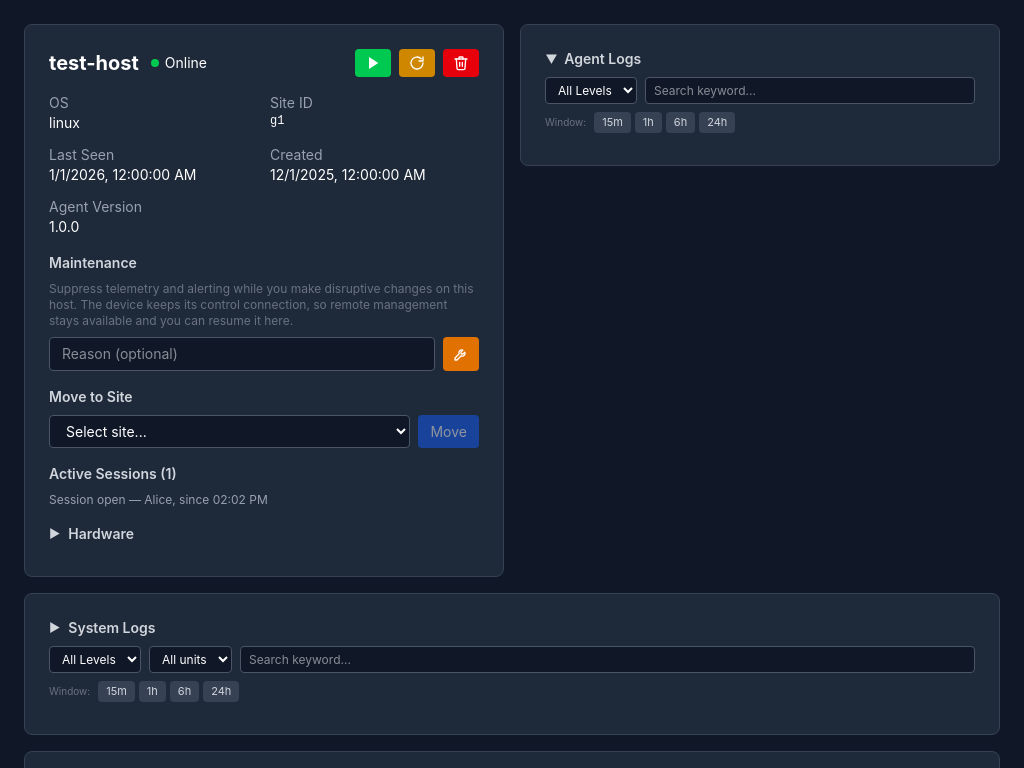
Test: DeviceDetail — sites and customers › handleMoveGroup clears the dropdown selection after a successful move
This screenshot has width=1024, height=768.
Select "Site 2" in the dropdown showing "Select site..." at (230, 432), box left=49, top=415, right=410, bottom=448
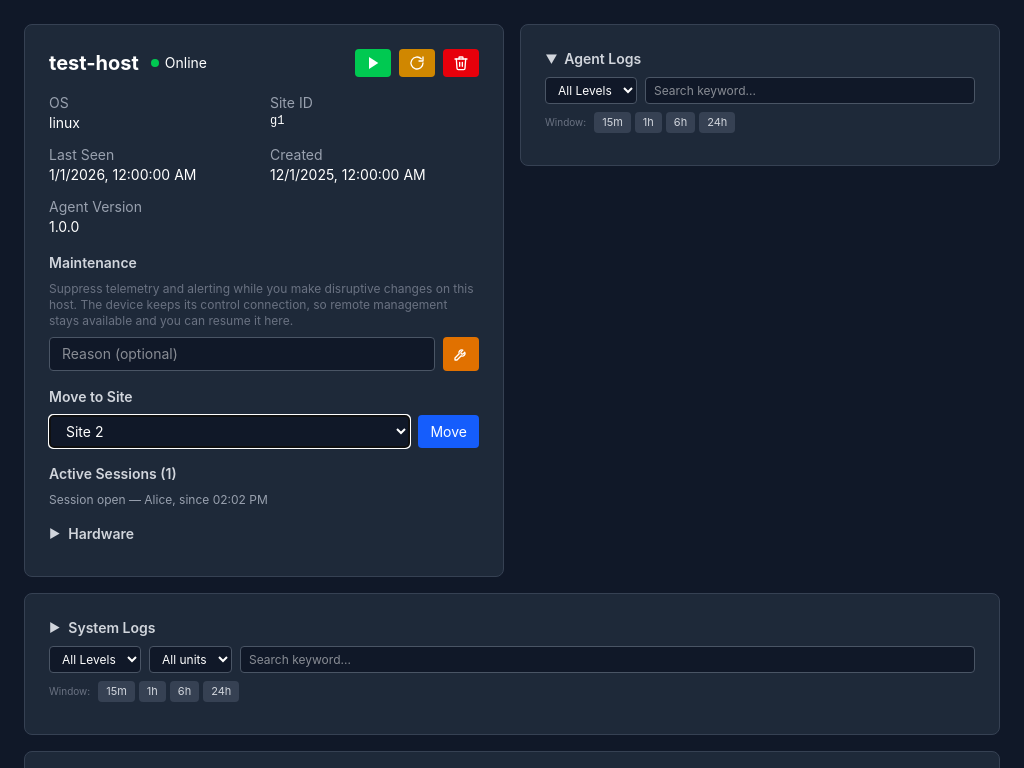
Check: the button "Move" is enabled
Click the button "Move" at (449, 432), box left=418, top=415, right=479, bottom=448
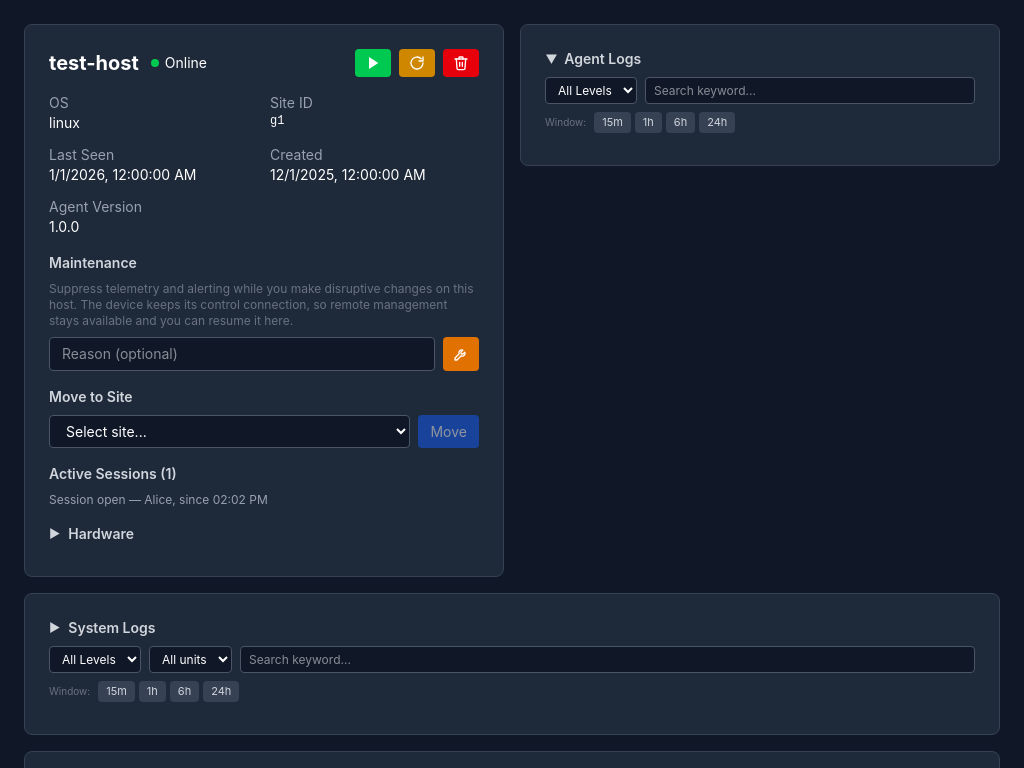
Check: the button "Move" is disabled, box left=418, top=415, right=479, bottom=448
